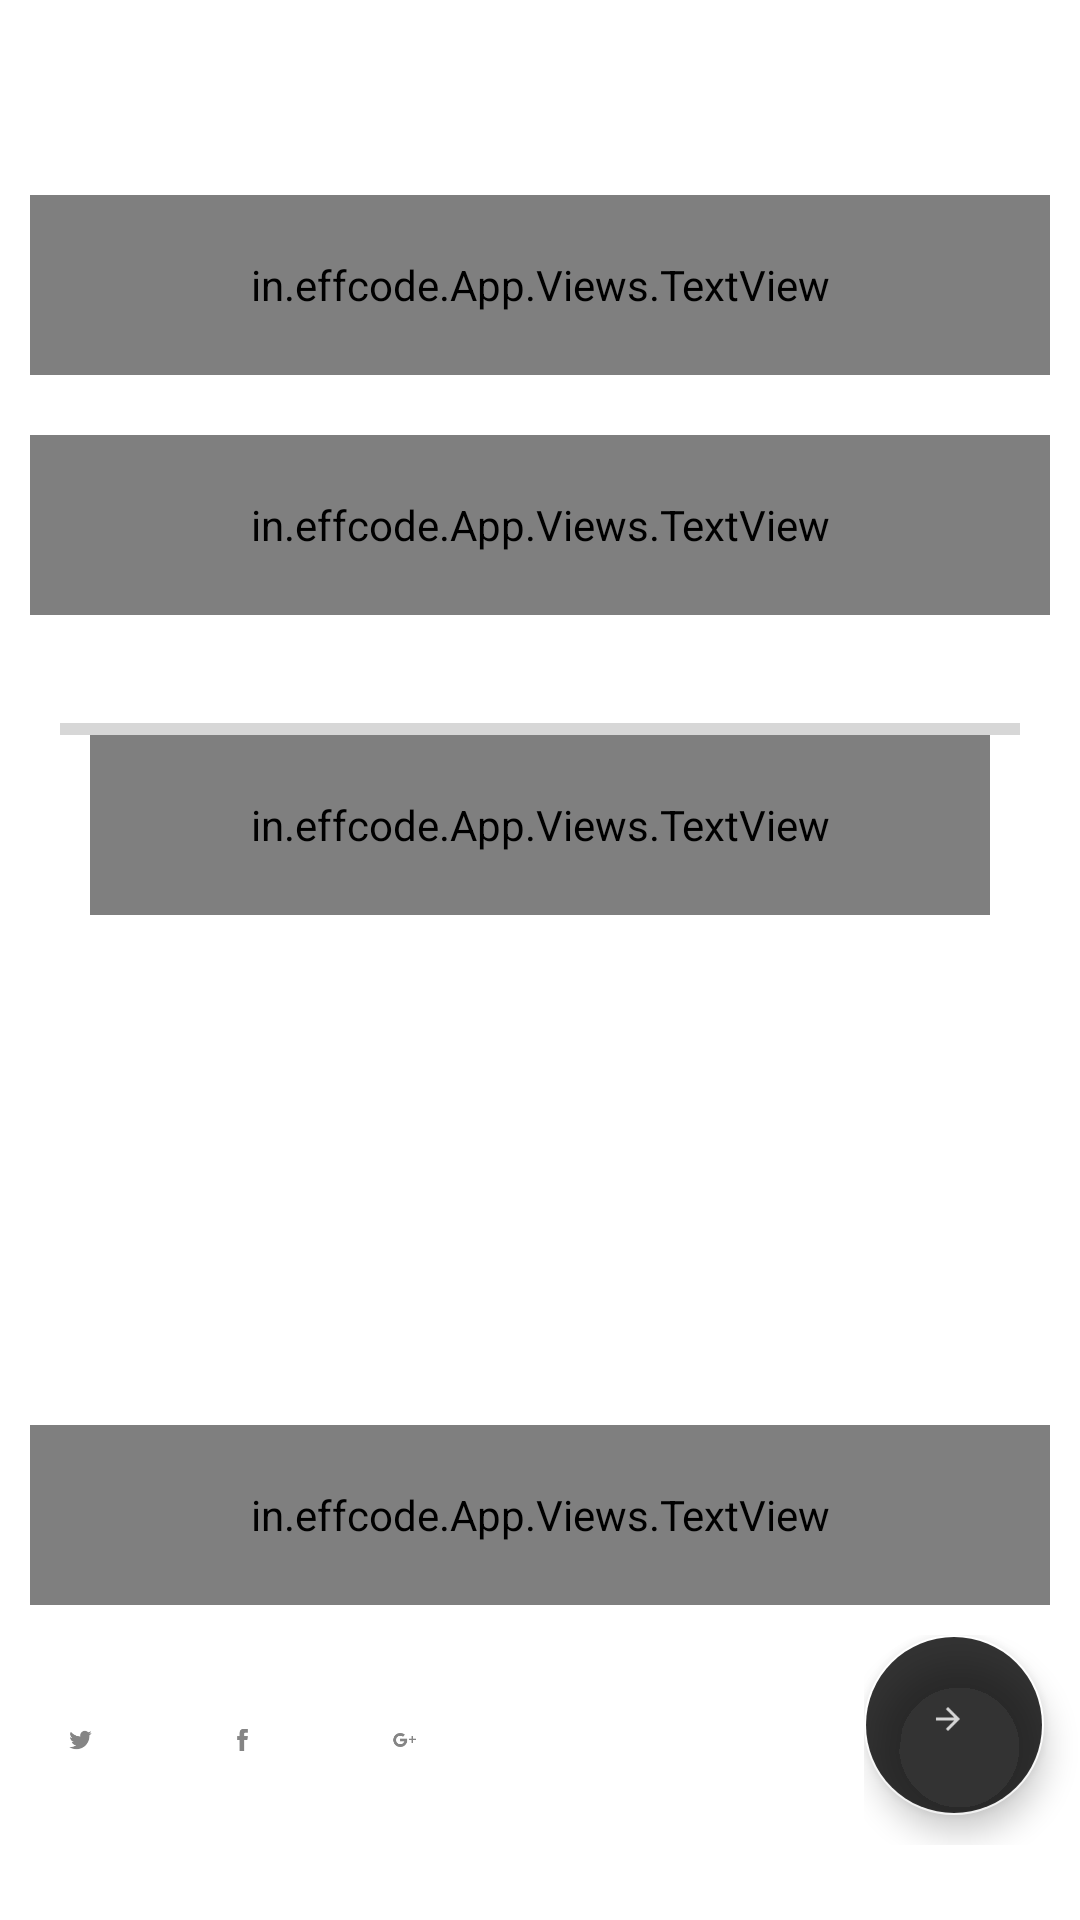

Screen size 1080×1920. Icon name, then its center in pixels as (x,y):
arrow right: (954,1725)
